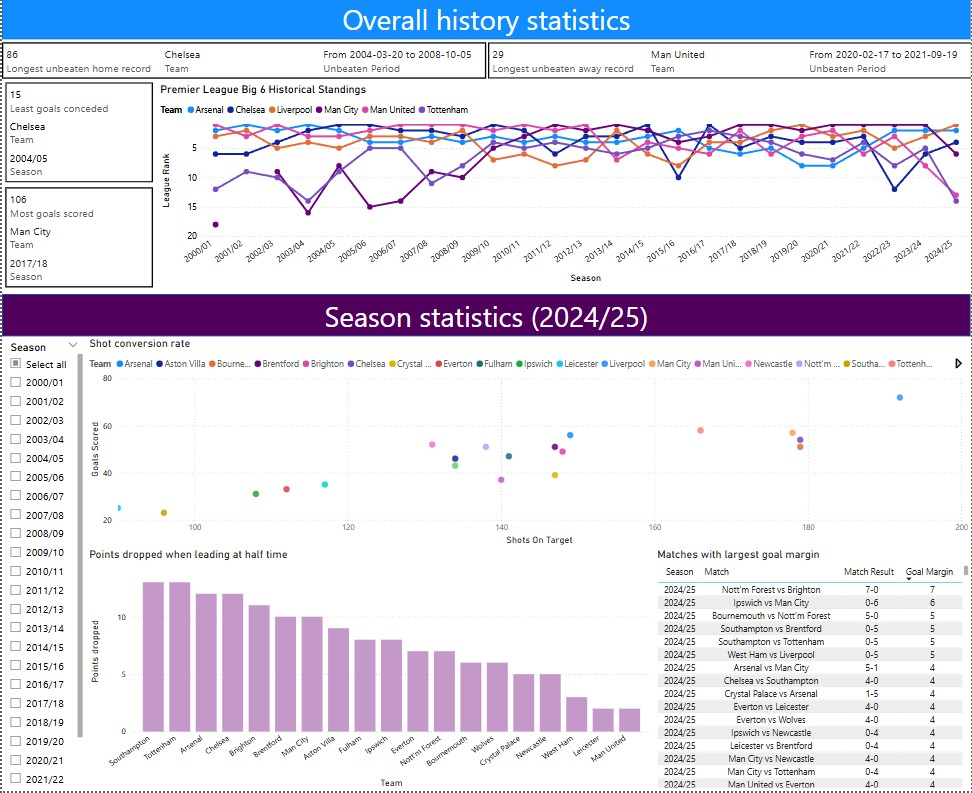

This screenshot's page, from the dashboard's own definition file:
{"tool":"powerbi","page":{"name":"Page 1","canvas":[1490,1220],"ordinal":0},"visuals":[{"type":"scatterChart","title":"Shot conversion rate","fields":{"X":["Sum(fct_shot_conversion.shots_on_target)"],"Y":["Sum(fct_shot_conversion.goals_scored)"],"Series":["fct_shot_conversion.team"]},"box":[129.1,522.4,1359.8,324.2],"z":0},{"type":"multiRowCard","fields":{"Values":["Max(fct_home_streak.unbeaten_match_count)","fct_home_streak.team","fct_home_streak.unbeaten_period"]},"box":[0,64.5,743.7,67.6],"z":1000},{"type":"tableEx","title":"Matches with largest goal margin","fields":{"Values":["fct_goal_margin.season","fct_goal_margin.match","fct_goal_margin.match_result","Sum(fct_goal_margin.goal_margin)"]},"box":[1001.8,846.6,488.6,373.4],"z":2000},{"type":"multiRowCard","fields":{"Values":["Sum(fct_away_streak.unbeaten_match_count)","fct_away_streak.team","fct_away_streak.unbeaten_period"]},"box":[746.8,64.5,743.7,67.6],"z":3000},{"type":"multiRowCard","title":"Least goals conceded in a season","fields":{"Values":["Min(fct_goals_conceded.total_goals_conceded)","fct_goals_conceded.team","fct_goals_conceded.season"]},"box":[0,127,237,165],"z":4000},{"type":"multiRowCard","fields":{"Values":["Max(fct_goals_scored.total_goals_scored)","fct_goals_scored.team","fct_goals_scored.season"]},"box":[0,286.3,237,169.3],"z":5000},{"type":"lineChart","title":"Premier League Big 6 Historical Standings","fields":{"Category":["fct_ranking.season"],"Series":["fct_ranking.team"],"Y":["Sum(fct_ranking.season_ranking)"]},"box":[238.2,132.1,1252.3,311.9],"z":6000},{"type":"clusteredColumnChart","title":"Points dropped when leading at half time","fields":{"Category":["fct_points_dropped.team"],"Y":["Sum(fct_points_dropped.total_points_dropped)"]},"box":[129.1,846.6,872.7,373.4],"z":7000},{"type":"slicer","fields":{"Values":["dim_season.season"]},"box":[0,522.4,129.1,697.6],"z":8000},{"type":"shape","box":[0,0,1488.2,64.9],"z":8001},{"type":"shape","box":[0,455.6,1488.2,64.9],"z":8002}]}

Visuals, with their boxes in screenshot pixels (x1, y1, x2, y2), scaled from the page's 1490x1220 canvas onto the 972x793 screenshot:
"Shot conversion rate" scatterChart: BBox(84, 340, 971, 550)
multiRowCard - Max(fct_home_streak.unbeaten_match_count) x fct_home_streak.team: BBox(0, 42, 485, 86)
"Matches with largest goal margin" tableEx: BBox(654, 550, 971, 792)
multiRowCard - Sum(fct_away_streak.unbeaten_match_count) x fct_away_streak.team: BBox(487, 42, 971, 86)
"Least goals conceded in a season" multiRowCard: BBox(0, 83, 155, 190)
multiRowCard - Max(fct_goals_scored.total_goals_scored) x fct_goals_scored.team: BBox(0, 186, 155, 296)
"Premier League Big 6 Historical Standings" lineChart: BBox(155, 86, 971, 289)
"Points dropped when leading at half time" clusteredColumnChart: BBox(84, 550, 654, 792)
slicer - dim_season.season: BBox(0, 340, 84, 792)
shape: BBox(0, 0, 971, 42)
shape: BBox(0, 296, 971, 338)
